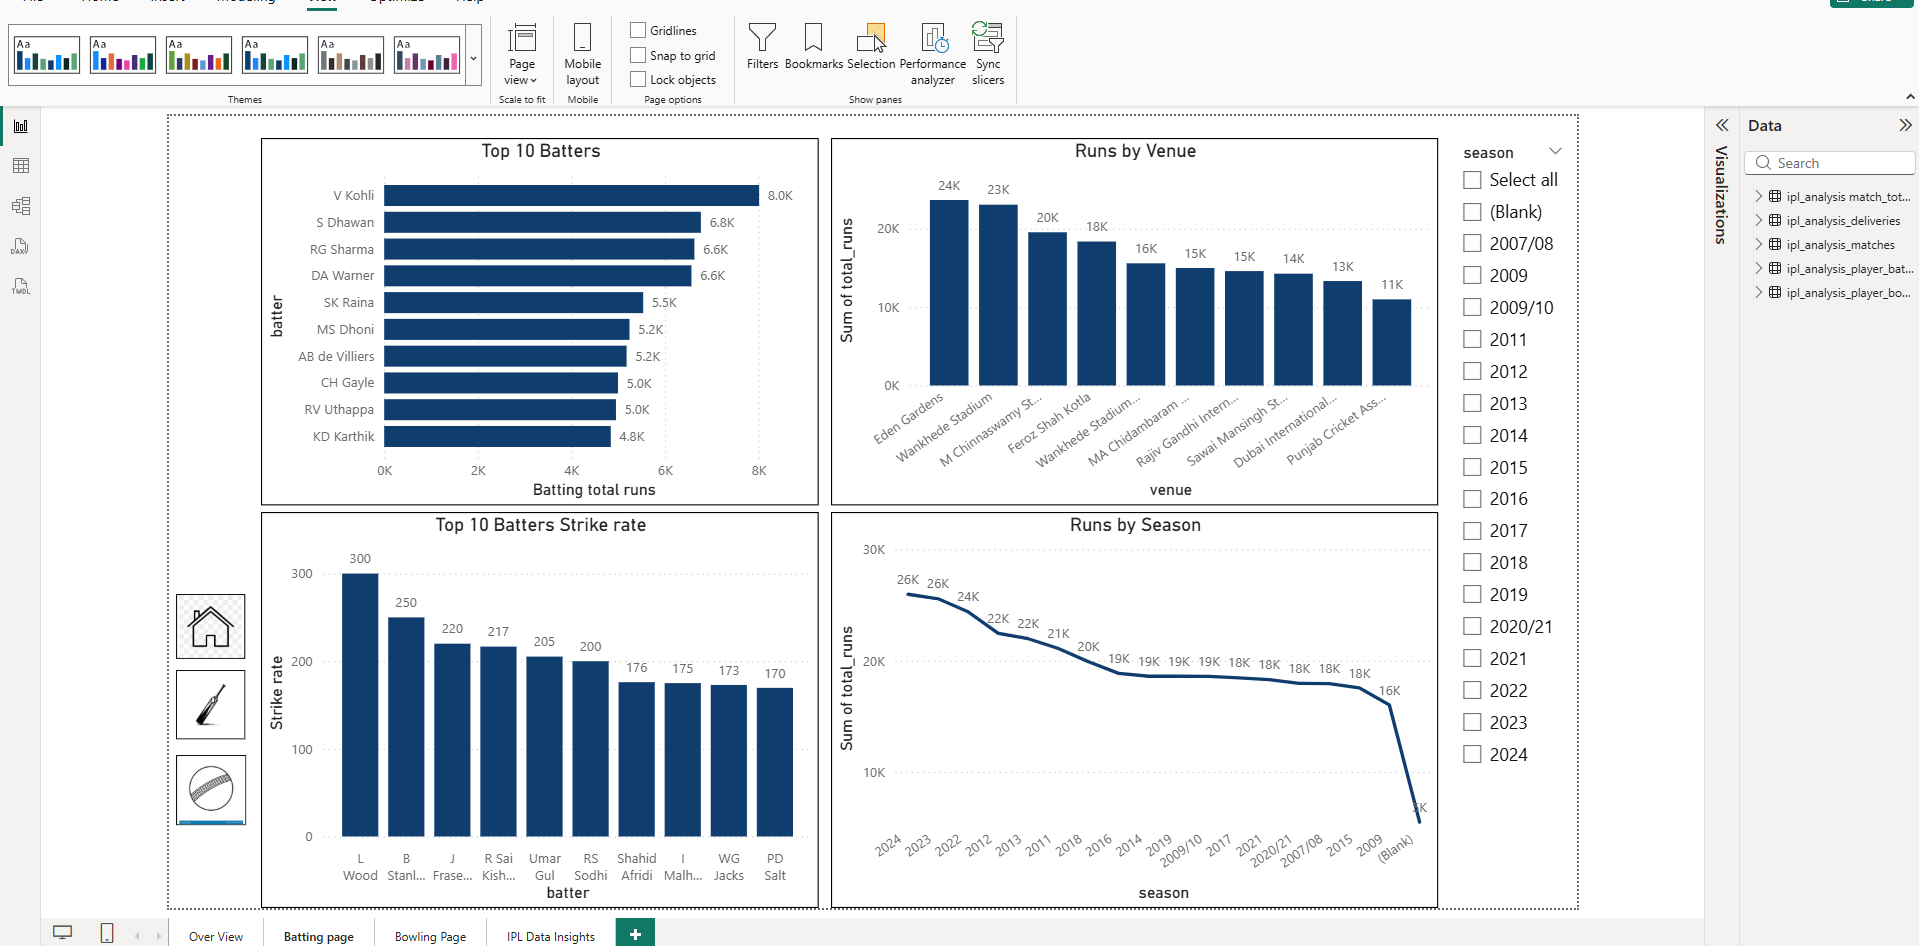

Layout of this report page (visuals, bound fields, positions):
{"tool":"powerbi","page":{"name":"Batting page","canvas":[1280,720],"ordinal":1},"visuals":[{"type":"barChart","title":"Top 10 Batters","fields":{"Category":["ipl_analysis_player_batting_stats.batter"],"Y":["ipl_analysis_player_batting_stats.Batting total runs"]},"box":[84,20,507,334],"z":0},{"type":"columnChart","title":"Top 10 Batters Strike rate","fields":{"Y":["ipl_analysis_player_batting_stats.Strike rate"],"Category":["ipl_analysis_player_batting_stats.batter"]},"box":[84,360,507,360],"z":1000},{"type":"clusteredColumnChart","title":"Runs by Venue","fields":{"Category":["ipl_analysis match_totals.venue"],"Y":["Sum(ipl_analysis_deliveries.total_runs)"]},"box":[602,20,552,334],"z":2000},{"type":"lineChart","title":"Runs by Season","fields":{"Category":["ipl_analysis match_totals.season"],"Y":["Sum(ipl_analysis_deliveries.total_runs)"]},"box":[602,360,552,360],"z":3000},{"type":"image","box":[6.7,435,63.2,59.4],"z":4000},{"type":"image","box":[6.7,504,63.2,63.2],"z":5000},{"type":"image","box":[6.3,581.2,63.6,63.6],"z":6000},{"type":"slicer","fields":{"Values":["ipl_analysis_matches.season"]},"box":[1164,20,116,700],"z":7000}]}

Visuals, with their boxes on the page's 1280x720 design canvas (x1, y1, x2, y2). These are canvas units, not pixel positions in the 1919x946 screenshot, which may show the page scaled, cropped or inside an application window:
"Top 10 Batters" barChart: {"left": 84, "top": 20, "right": 591, "bottom": 354}
"Top 10 Batters Strike rate" columnChart: {"left": 84, "top": 360, "right": 591, "bottom": 720}
"Runs by Venue" clusteredColumnChart: {"left": 602, "top": 20, "right": 1154, "bottom": 354}
"Runs by Season" lineChart: {"left": 602, "top": 360, "right": 1154, "bottom": 720}
image: {"left": 7, "top": 435, "right": 70, "bottom": 494}
image: {"left": 7, "top": 504, "right": 70, "bottom": 567}
image: {"left": 6, "top": 581, "right": 70, "bottom": 645}
slicer - ipl_analysis_matches.season: {"left": 1164, "top": 20, "right": 1280, "bottom": 720}
